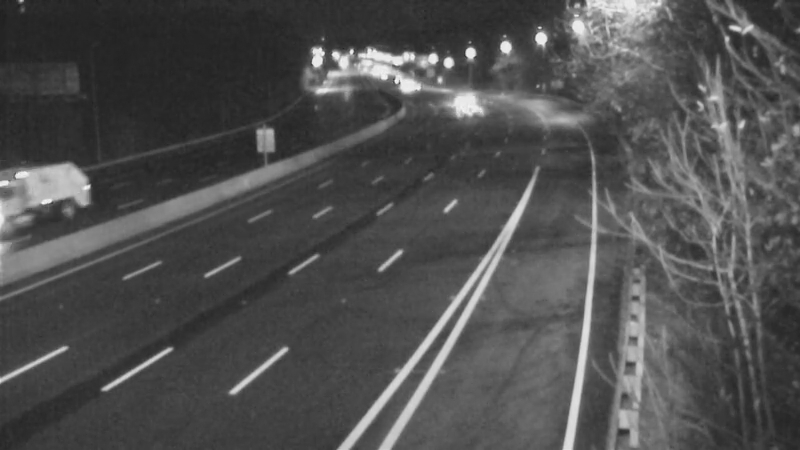vehicle: (1, 159, 78, 239), (377, 60, 427, 110), (435, 72, 485, 122), (444, 89, 494, 139)
